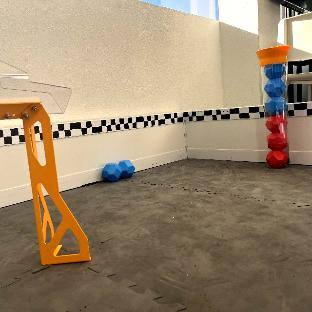V5_BLUE: (264, 63, 286, 113), (102, 160, 135, 181)
V5_RED: (266, 115, 287, 166), (267, 150, 286, 168)
